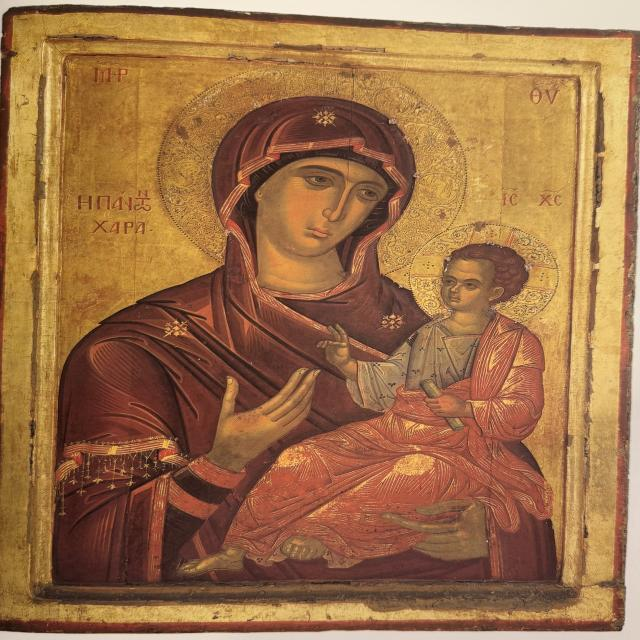aura: (158, 64, 470, 279), (413, 224, 563, 336)
christ_child: (188, 224, 568, 578)
christ_hand: (318, 321, 367, 382)
mary_and_child: (45, 48, 579, 598)
scroll: (418, 379, 476, 439)
